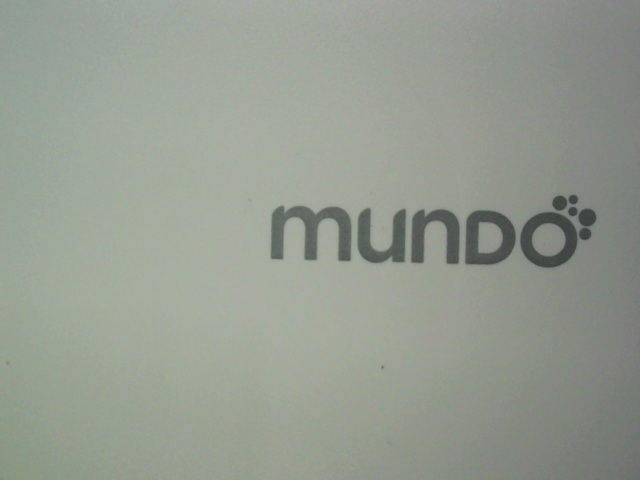BI_MUNDO: (254, 169, 600, 279)
